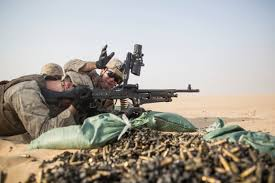gun: (37, 81, 201, 116)
